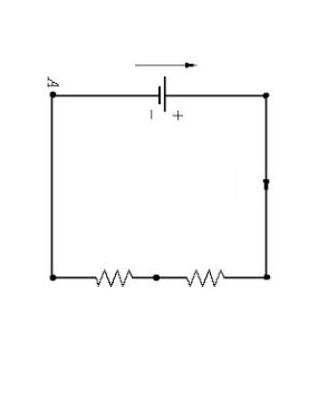resistor: (174, 256, 239, 296), (79, 259, 148, 294)
